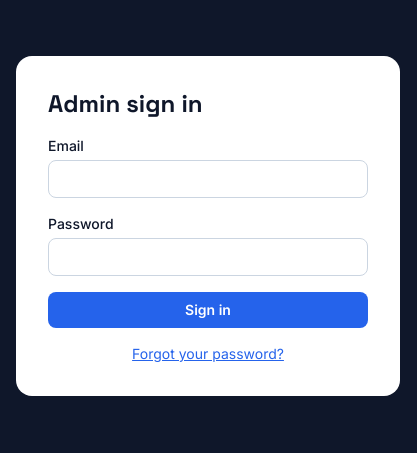
Test: shows a rate-limit message after too many failed logins
In the field labelled "Email": (208, 179) [48,160,368,198], type "a@example.com"
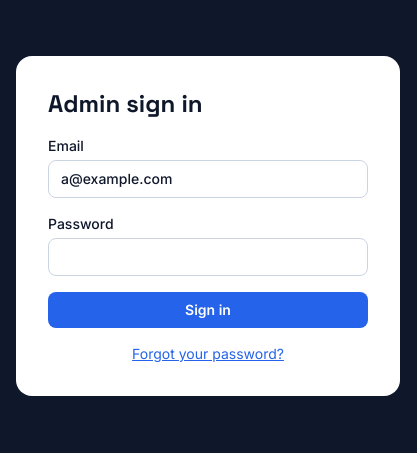
In the password field labelled "Password": (208, 257) [48,238,368,276], type "x"
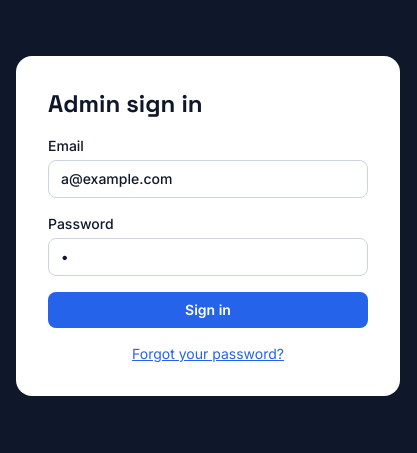
Click the button "Sign in": (208, 310) [48,292,368,328]
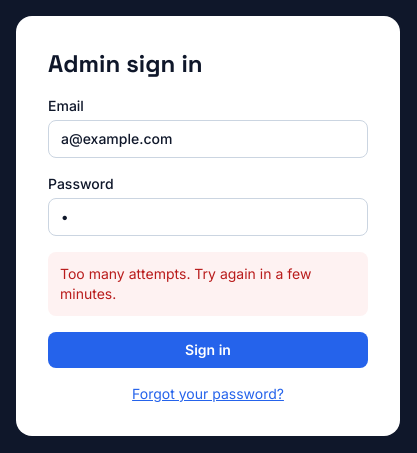
Expected: the text "Too many attempts. Try again in a few minutes." is shown, [48,252,368,316]
